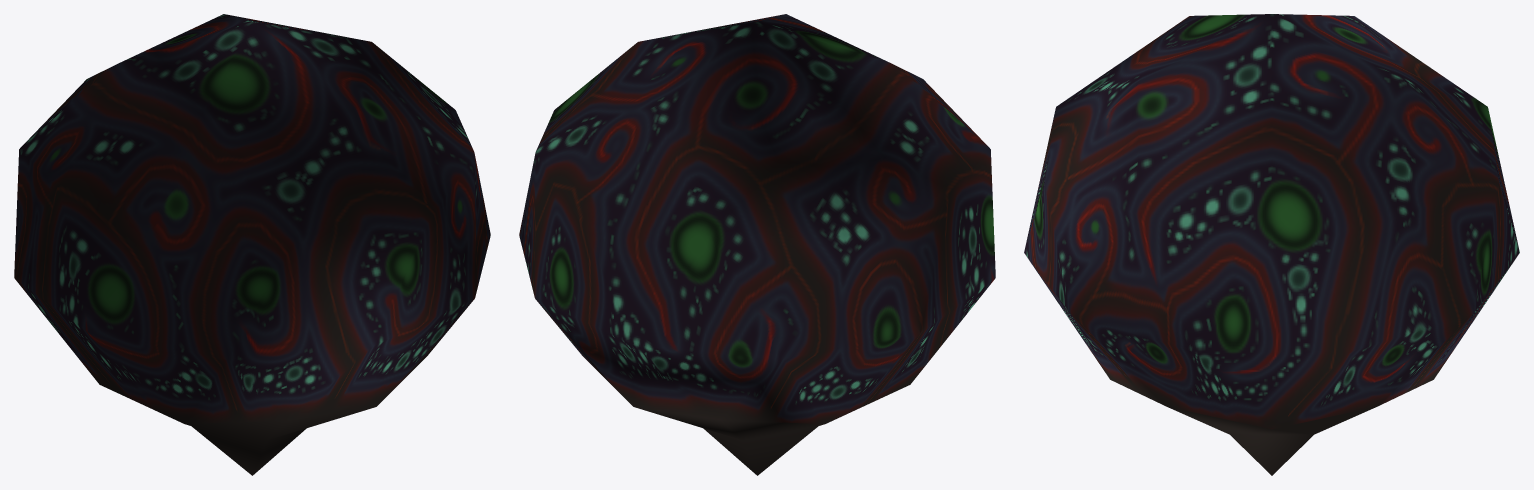
The model's file is mystical_truffles_low.DAE.
The picture shows the model from 3 angles, left to right: view 1: azimuth 30°, elevation 25°; view 2: azimuth 150°, elevation 25°; view 3: azimuth 270°, elevation 25°; orthographic projection.
Visible parts, largest first — view 1: mystical_truffles_low_PIVOT; view 2: mystical_truffles_low_PIVOT; view 3: mystical_truffles_low_PIVOT.
Part boxes in pixels (bbox=[...]): mystical_truffles_low_PIVOT: bbox=[14, 14, 490, 475]; mystical_truffles_low_PIVOT: bbox=[519, 14, 995, 475]; mystical_truffles_low_PIVOT: bbox=[1024, 14, 1519, 475].
Bounding box in the file's own units: 0.7649 × 0.7992 × 0.8217.
Materials: 1 (1 with a texture image).
